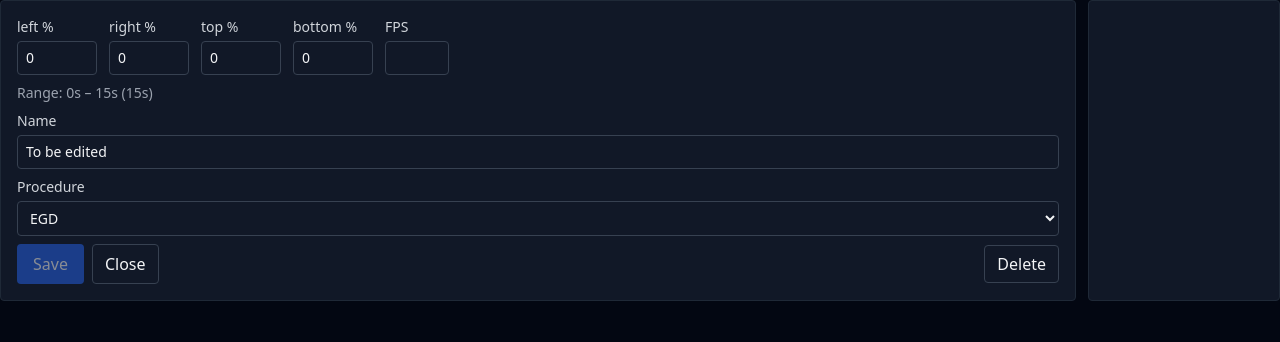
Test: SequenceForm edit mode (sequence prop present) › shows an error and returns to the editable state when the confirmed save fails
The width and height of the screenshot is (1280, 342).
Type "2" into the number field labelled "FPS". click: (417, 58)
box: [385, 41, 449, 75]
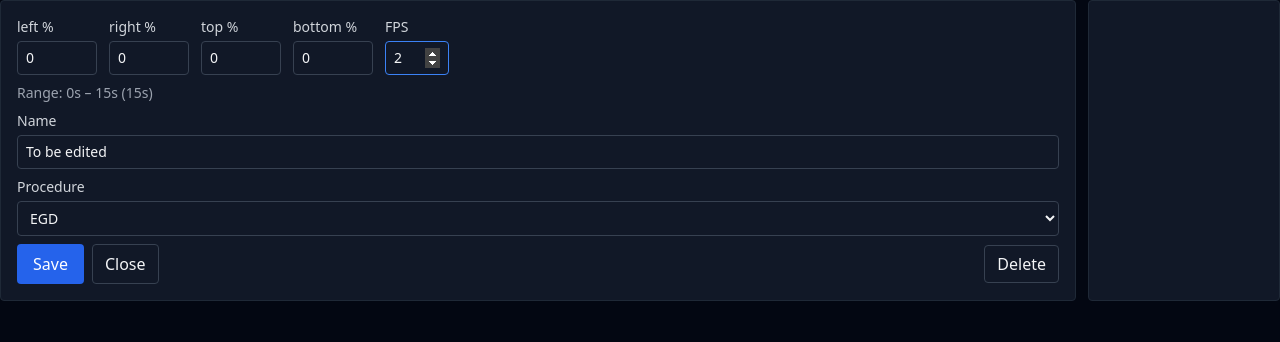
Click the button "Save". click: (50, 264)
box: [17, 244, 84, 284]
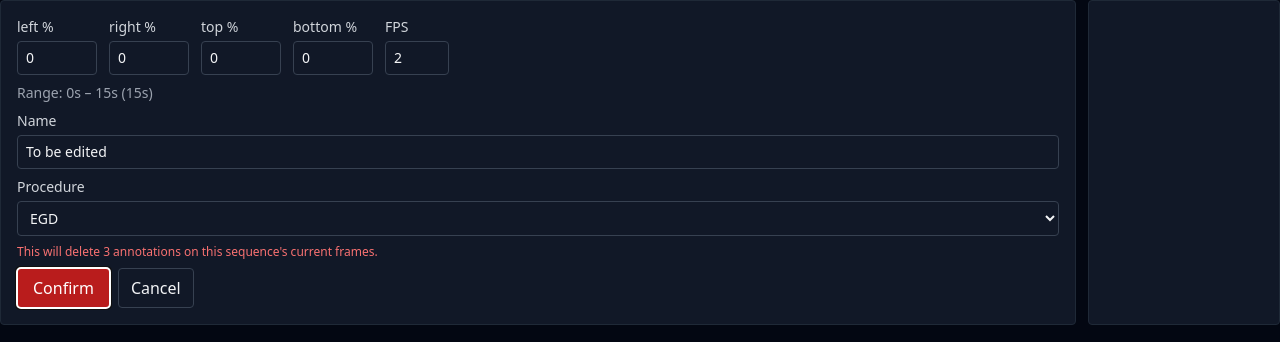
Click the button "Confirm". click: (63, 288)
box: [17, 268, 110, 308]
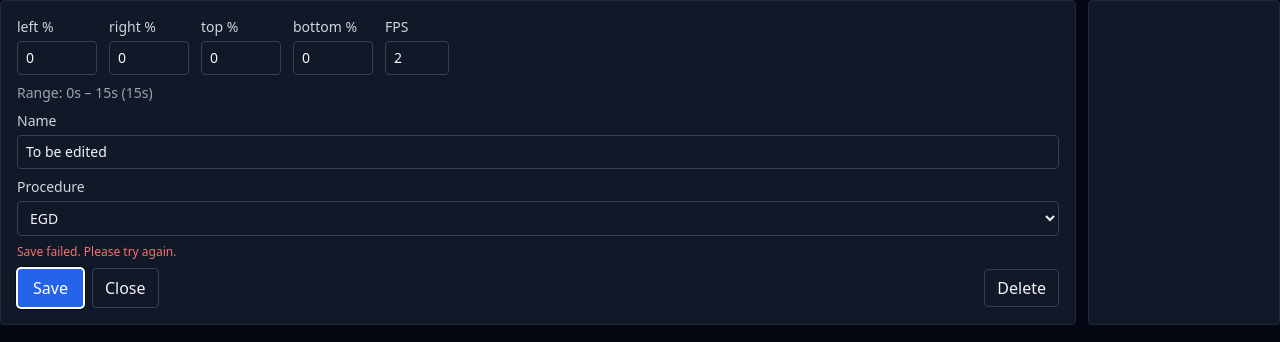
Expected: the text "Save failed. Please try again." is shown, [17, 243, 176, 260]
Expected: the button "Save" is shown, [17, 268, 84, 308]
Expected: the button "Confirm" is gone
